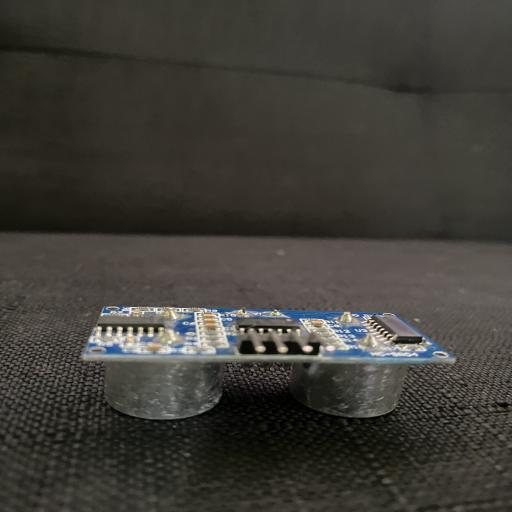Ultrasonic Sensor: (82, 304, 456, 420)
